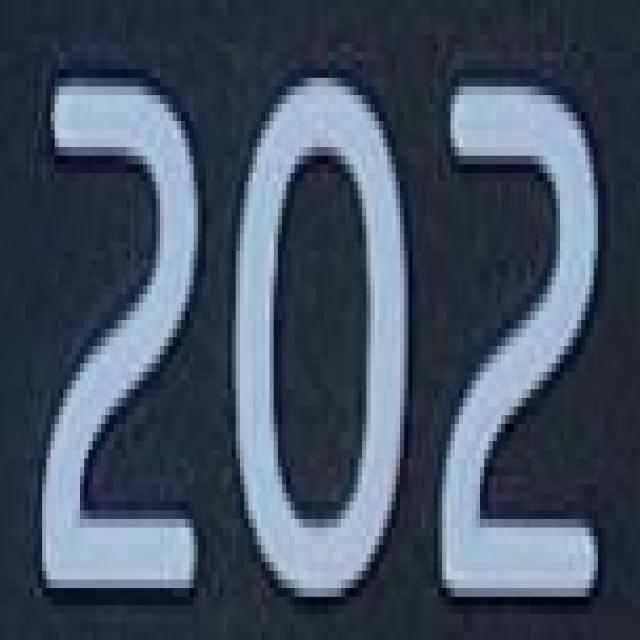character: (228, 56, 414, 619), (431, 71, 613, 618), (36, 69, 206, 612)
